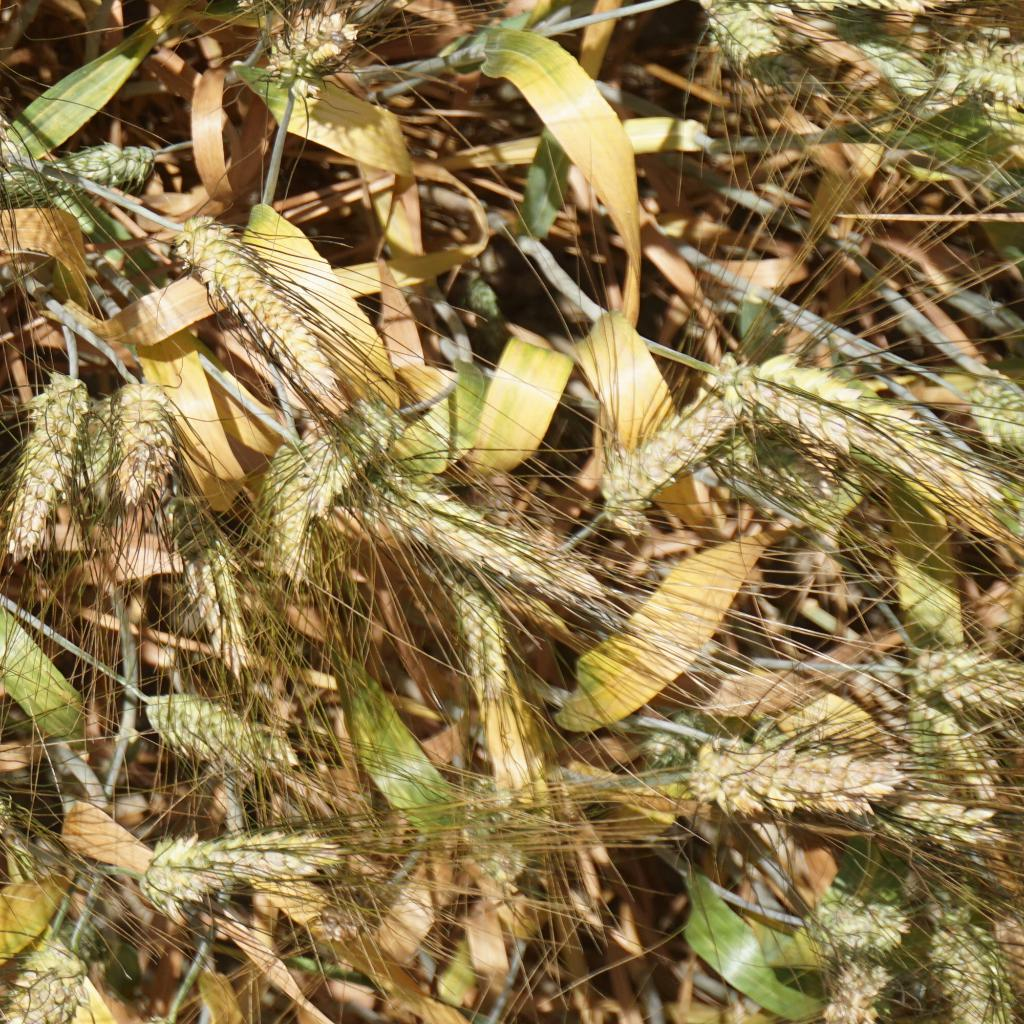0-0: (697, 727, 1024, 875), (746, 340, 1008, 519), (405, 466, 598, 606), (188, 220, 326, 377), (584, 360, 732, 502), (134, 664, 308, 780), (133, 830, 364, 914), (687, 722, 898, 801), (161, 509, 258, 673), (0, 368, 82, 557), (889, 681, 998, 813), (96, 348, 173, 516), (423, 559, 529, 681), (262, 0, 375, 110), (929, 893, 1017, 1024), (884, 635, 1024, 717), (0, 130, 157, 200), (784, 883, 920, 961), (720, 427, 835, 518), (464, 765, 543, 891), (303, 393, 379, 516), (714, 4, 805, 104), (296, 881, 405, 957), (248, 431, 307, 563), (813, 945, 910, 1024), (0, 949, 97, 1024), (919, 35, 1024, 100), (633, 706, 722, 775), (954, 374, 1024, 446), (858, 37, 923, 114), (463, 268, 518, 355), (0, 722, 19, 846)
